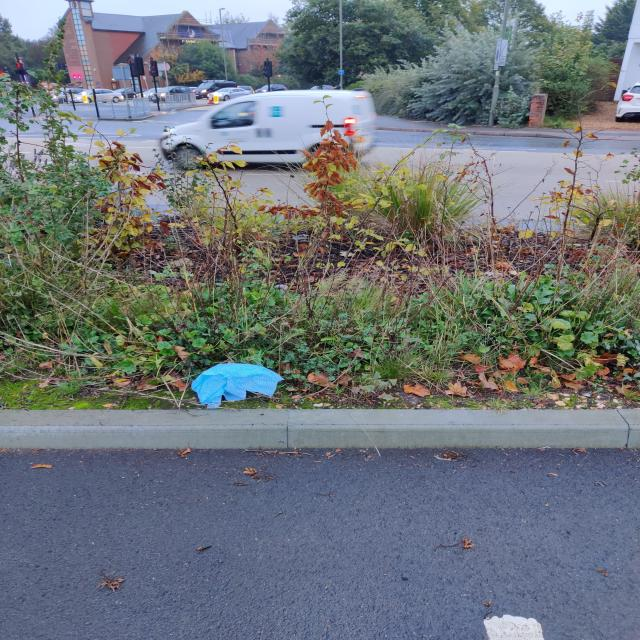litter: (178, 351, 291, 421), (477, 611, 561, 638)
